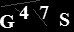4: (17, 5, 30, 20)
7: (37, 5, 49, 20)
G: (1, 13, 15, 29)
S: (58, 12, 70, 27)
